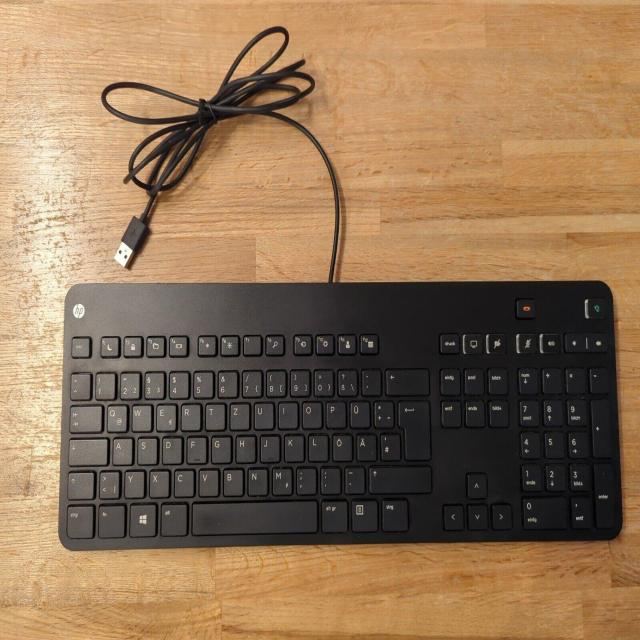0: (312, 367, 333, 395)
1: (94, 370, 115, 399)
2: (118, 370, 139, 397)
3: (143, 369, 164, 398)
4: (168, 369, 189, 398)
5: (191, 369, 213, 397)
6: (216, 368, 237, 397)
7: (241, 368, 262, 396)
8: (264, 367, 285, 396)
9: (288, 367, 309, 395)
a: (111, 435, 132, 464)
accent: (359, 366, 380, 394)
ae: (355, 431, 376, 460)
alt-left: (159, 501, 187, 536)
altgr-right: (319, 497, 346, 531)
b: (221, 466, 242, 495)
c: (172, 467, 194, 496)
caret: (69, 371, 90, 398)
comma: (295, 465, 316, 494)
d: (160, 434, 181, 464)
del: (383, 365, 428, 394)
e: (155, 401, 176, 430)
enter: (396, 398, 429, 459)
f: (185, 434, 206, 463)
g: (210, 434, 231, 463)
h: (234, 433, 255, 462)
hash: (378, 430, 399, 460)
i: (276, 399, 297, 428)
j: (258, 433, 279, 462)
k: (283, 431, 304, 461)
keyboard: (55, 280, 626, 557)
l: (306, 432, 327, 461)
less: (97, 468, 119, 497)
m: (270, 465, 291, 494)
minus: (342, 464, 364, 492)
n: (246, 466, 267, 495)
o: (300, 399, 321, 428)
oe: (331, 432, 352, 461)
p: (324, 398, 345, 427)
plus: (372, 397, 393, 427)
point: (319, 464, 340, 493)
q: (105, 402, 126, 431)
r: (179, 401, 200, 430)
s: (136, 435, 157, 464)
shift-left: (65, 469, 93, 498)
shift-lock: (67, 435, 107, 464)
shift-right: (367, 463, 430, 492)
space: (190, 497, 316, 534)
ss: (336, 367, 356, 395)
strg-left: (65, 503, 93, 538)
strg-right: (380, 497, 408, 531)
t: (204, 400, 225, 429)
tab: (67, 402, 101, 431)
u: (252, 399, 273, 429)
ue: (348, 398, 369, 427)
v: (197, 466, 218, 496)
w: (130, 402, 151, 431)
x: (148, 467, 169, 497)
y: (123, 468, 144, 497)
z: (228, 400, 249, 429)
